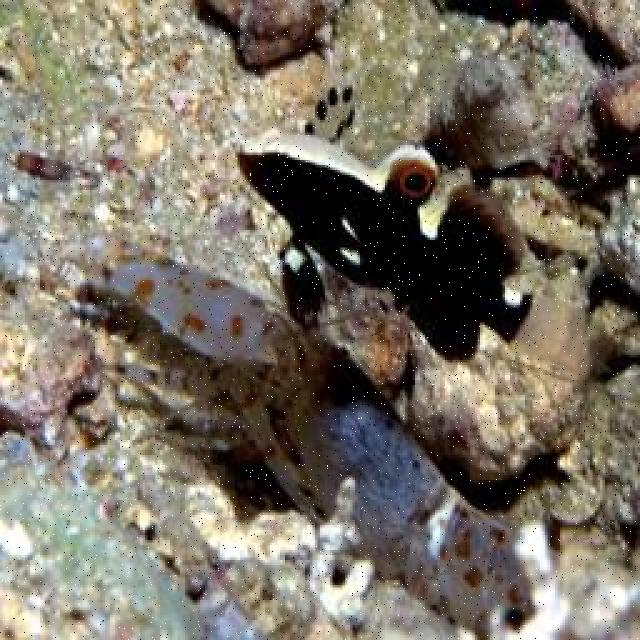fish: (236, 136, 534, 362)
reefs: (110, 241, 332, 522)
